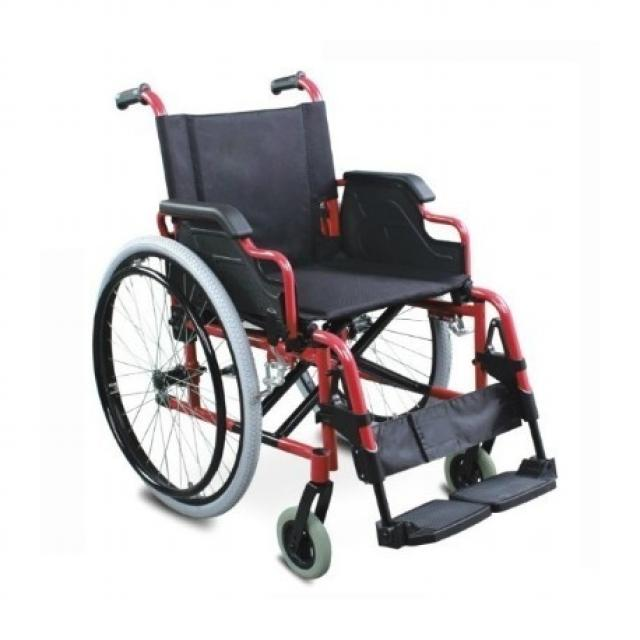wheelchair: (85, 72, 572, 596)
